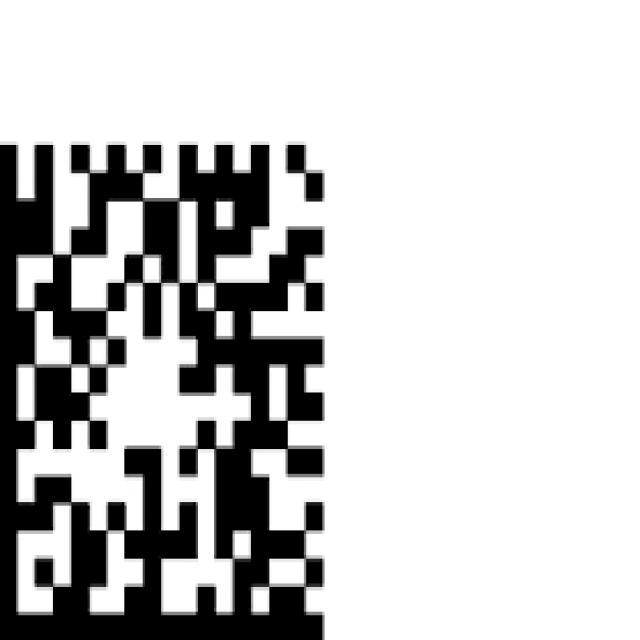Data-Matrix: (2, 120, 334, 640)
